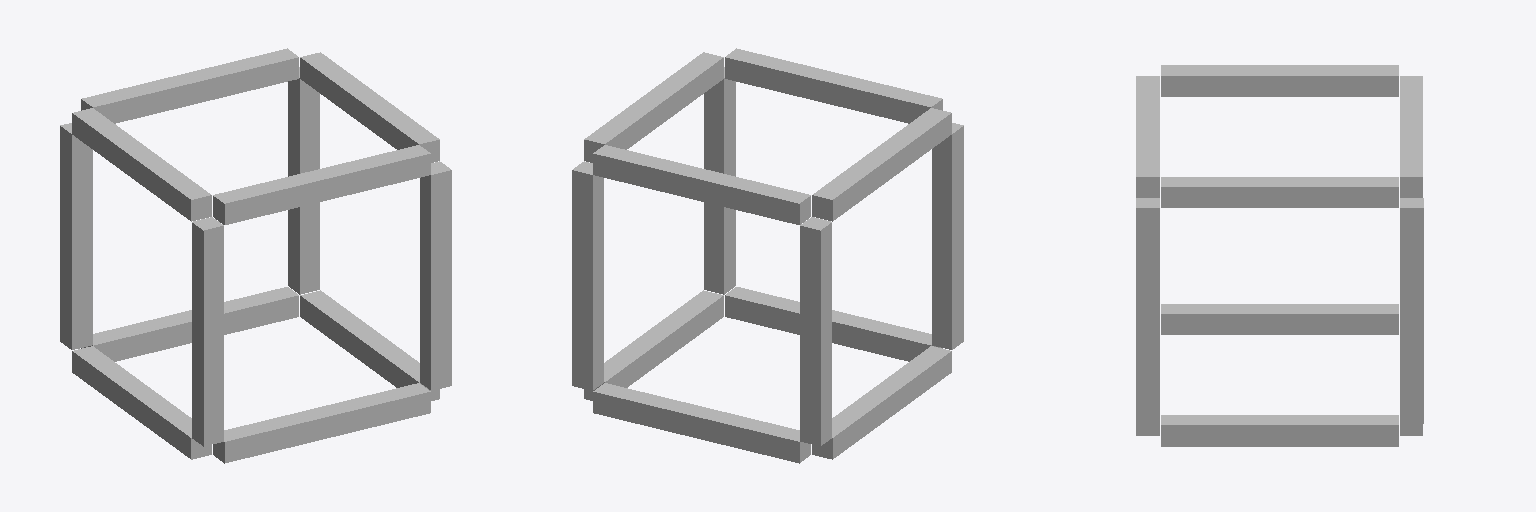
Rendered from pipe_01_outer.obj.
3 views of the same model, side by side, from view 1: azimuth 30°, elevation 25°; view 2: azimuth 150°, elevation 25°; view 3: azimuth 270°, elevation 25° (orthographic).
Size of the model in its own units: 0.301 by 0.3005 by 0.3011.